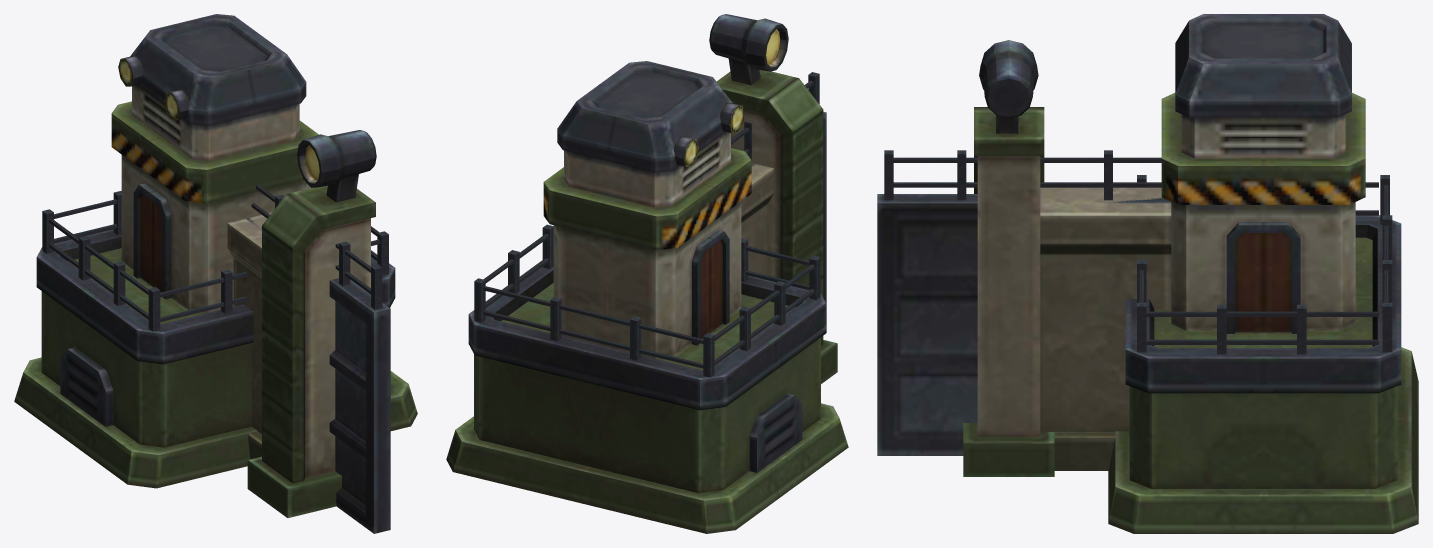
File: wall04.FBX
3 views of the same model, side by side, from view 1: azimuth 30°, elevation 25°; view 2: azimuth 150°, elevation 25°; view 3: azimuth 270°, elevation 25° (orthographic). The views are drawn at different scales.
Visible parts, largest first — view 1: wall04; view 2: wall04; view 3: wall04.
Part boxes in pixels (x1,y1,x2,y2): wall04: [14, 14, 417, 533]; wall04: [446, 14, 848, 533]; wall04: [877, 14, 1418, 533].
Size of the model in its own units: 4.14 by 4.93 by 5.84.
